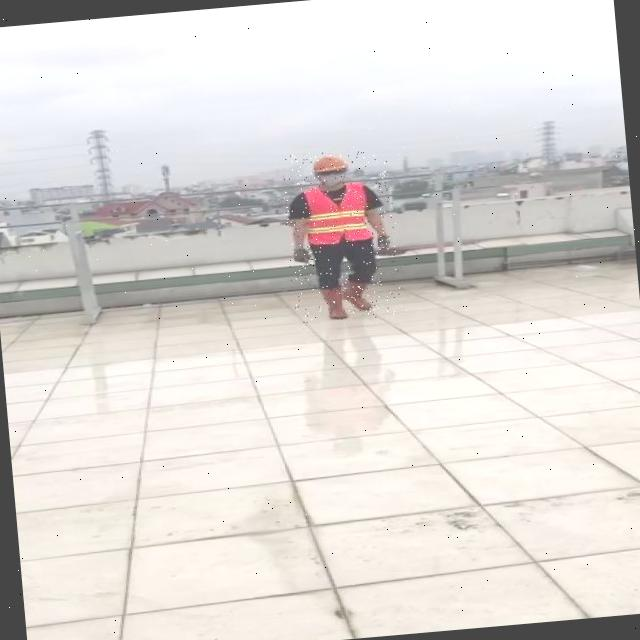boots: (292, 244, 313, 264), (375, 233, 395, 254)
helmet: (310, 151, 348, 172)
vest: (302, 182, 370, 245)
